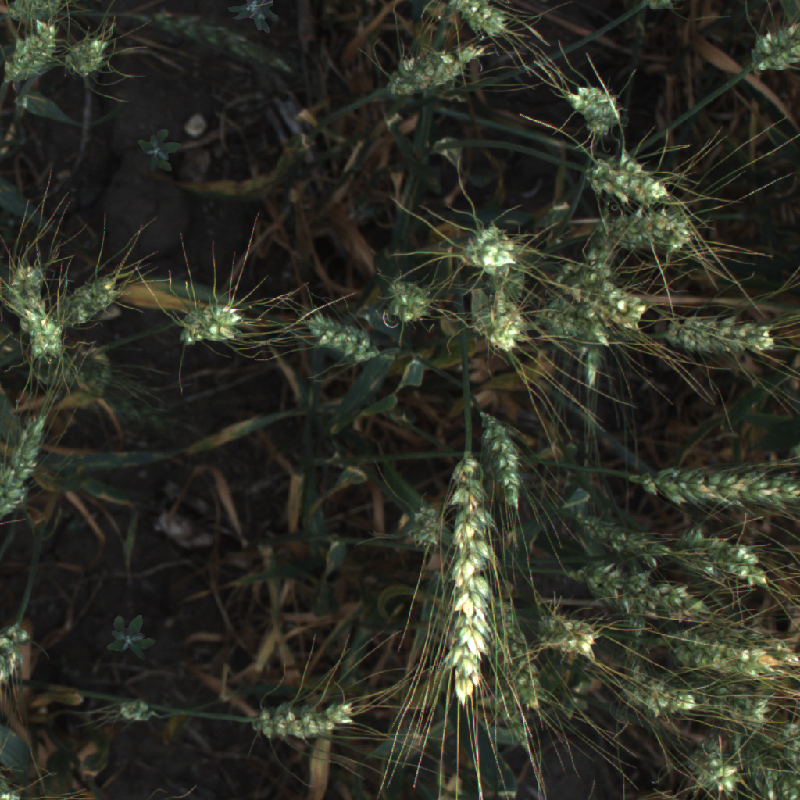spikelet: (435, 457, 500, 709), (550, 560, 725, 627), (631, 453, 800, 516), (148, 10, 292, 77), (653, 621, 796, 678), (485, 584, 542, 715), (384, 41, 492, 102), (665, 307, 783, 362), (669, 529, 773, 591), (563, 510, 668, 568), (1, 402, 49, 526), (475, 407, 527, 509), (585, 149, 670, 208), (25, 341, 111, 393), (373, 270, 438, 335), (254, 697, 357, 737), (567, 270, 636, 328), (435, 1, 520, 48), (597, 212, 689, 255), (456, 220, 523, 278), (1, 20, 59, 86), (693, 690, 778, 735), (303, 312, 378, 362), (177, 294, 246, 347), (563, 78, 624, 135), (478, 289, 531, 353), (612, 674, 692, 714), (531, 608, 593, 658), (744, 22, 800, 77), (62, 274, 122, 325), (397, 502, 452, 557), (746, 742, 800, 797), (691, 750, 747, 798), (1, 610, 32, 691), (63, 37, 119, 81), (20, 310, 68, 360), (547, 298, 601, 341), (3, 255, 44, 311), (557, 259, 599, 292), (4, 1, 59, 25), (117, 698, 156, 723), (642, 1, 679, 16)
weed: (105, 610, 154, 663), (225, 1, 283, 44), (138, 129, 181, 173)
